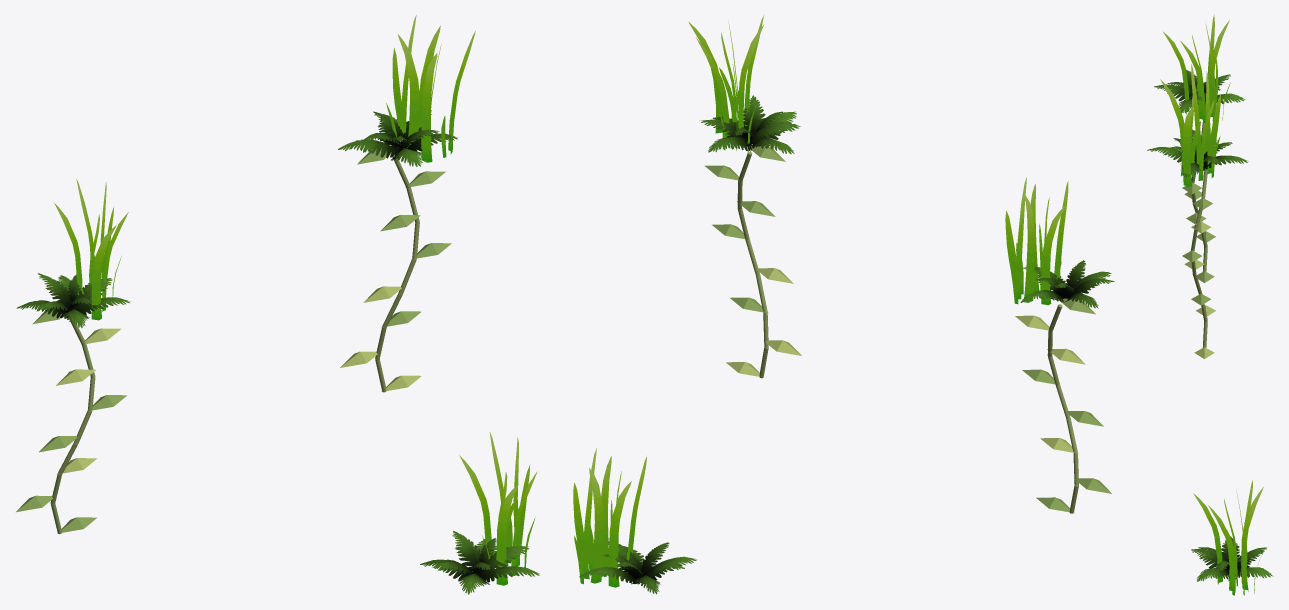
The model's file is Broken_Stone_Arch_Greenery.glb.
The picture shows the model from 3 angles, left to right: view 1: azimuth 30°, elevation 25°; view 2: azimuth 150°, elevation 25°; view 3: azimuth 270°, elevation 25°; orthographic projection. The views are drawn at different scales.
Visible parts, largest first — view 1: Patch_001, Patch_000, Patch_002; view 2: Patch_000, Patch_001, Patch_002; view 3: Patch_001, Patch_000, Patch_002.
Boxes of the visible parts, <box> form: Patch_001: <box>338,15,475,392</box>; Patch_000: <box>16,179,130,534</box>; Patch_002: <box>420,432,539,594</box>; Patch_000: <box>1005,177,1114,513</box>; Patch_001: <box>688,14,801,378</box>; Patch_002: <box>573,448,696,594</box>; Patch_001: <box>1147,64,1248,358</box>; Patch_000: <box>1154,14,1245,282</box>; Patch_002: <box>1191,480,1273,595</box>.
Size of the model in its own units: 3.16 by 3.36 by 0.828.
5 materials, 2 textured.
